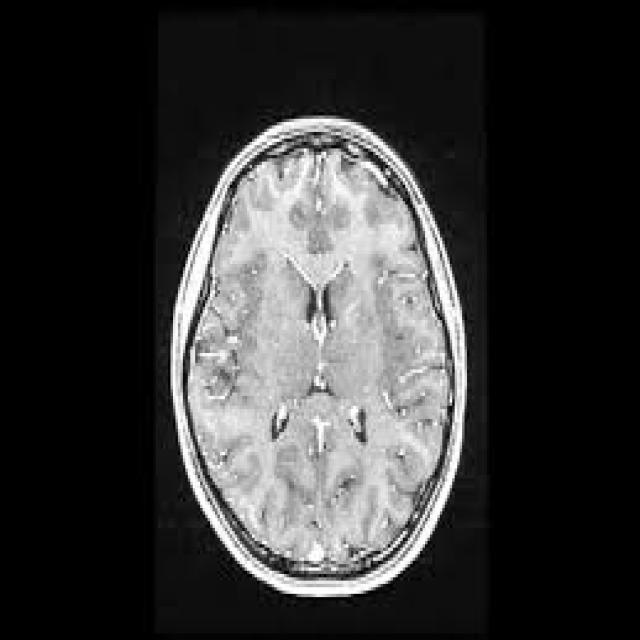notumor: (168, 119, 467, 600)
